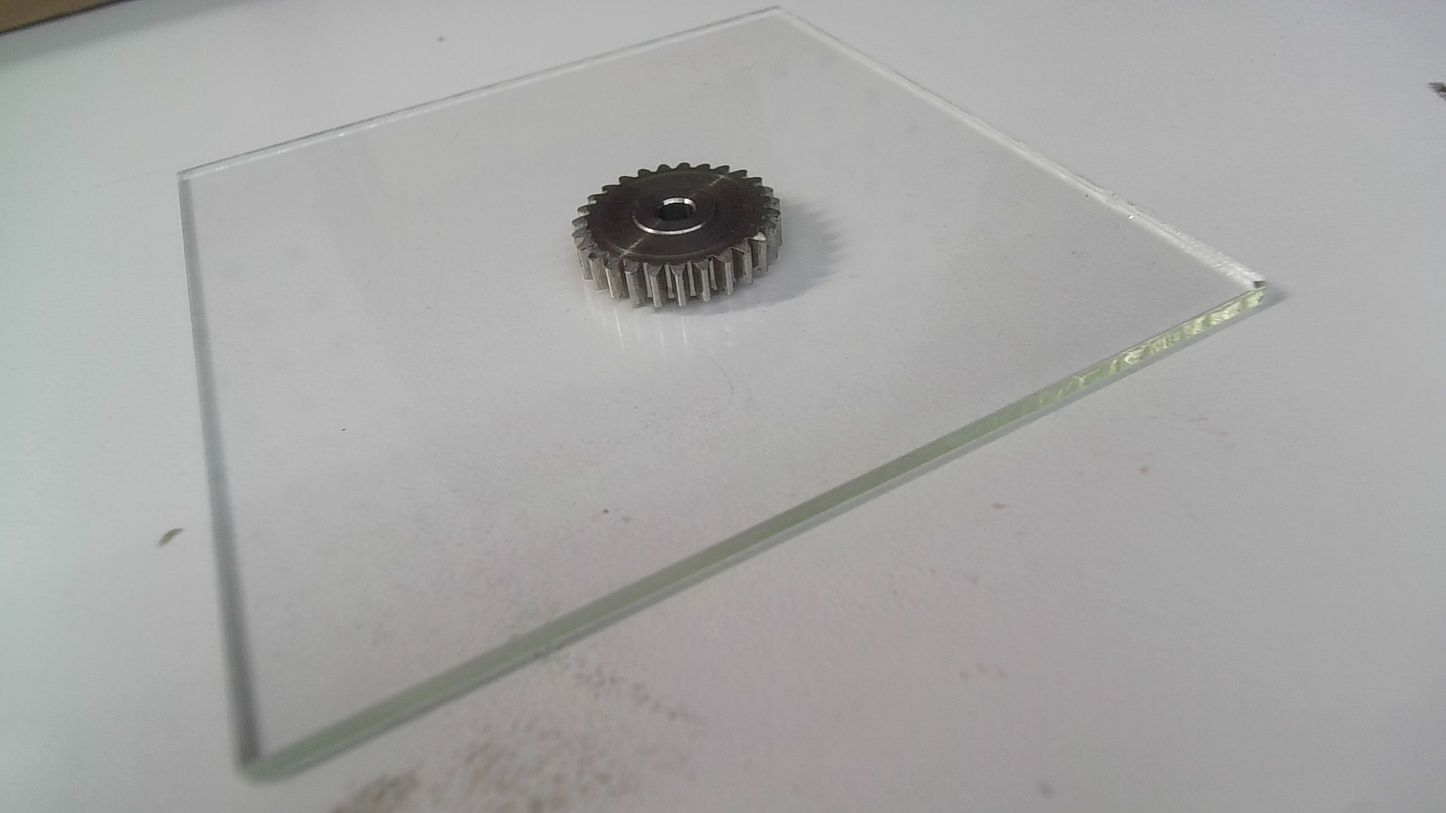gear: (566, 162, 785, 311)
